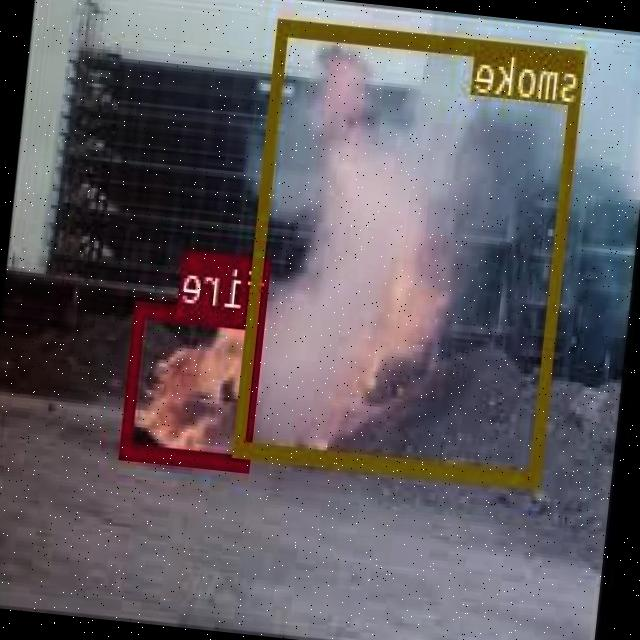fire: (121, 298, 267, 467)
smoke: (235, 18, 586, 485)
